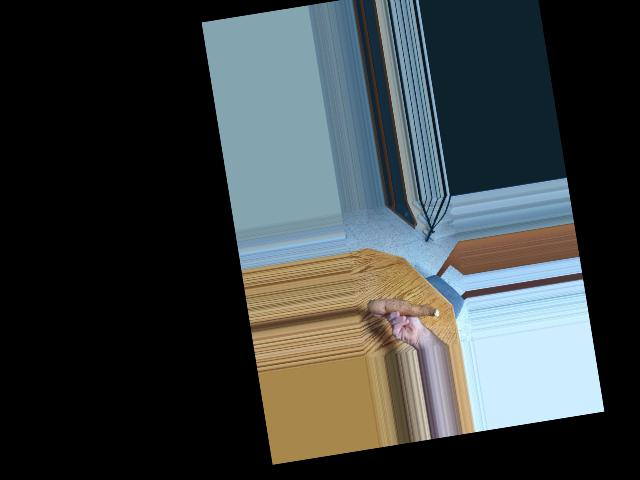sweet_potato: (365, 288, 440, 329)
